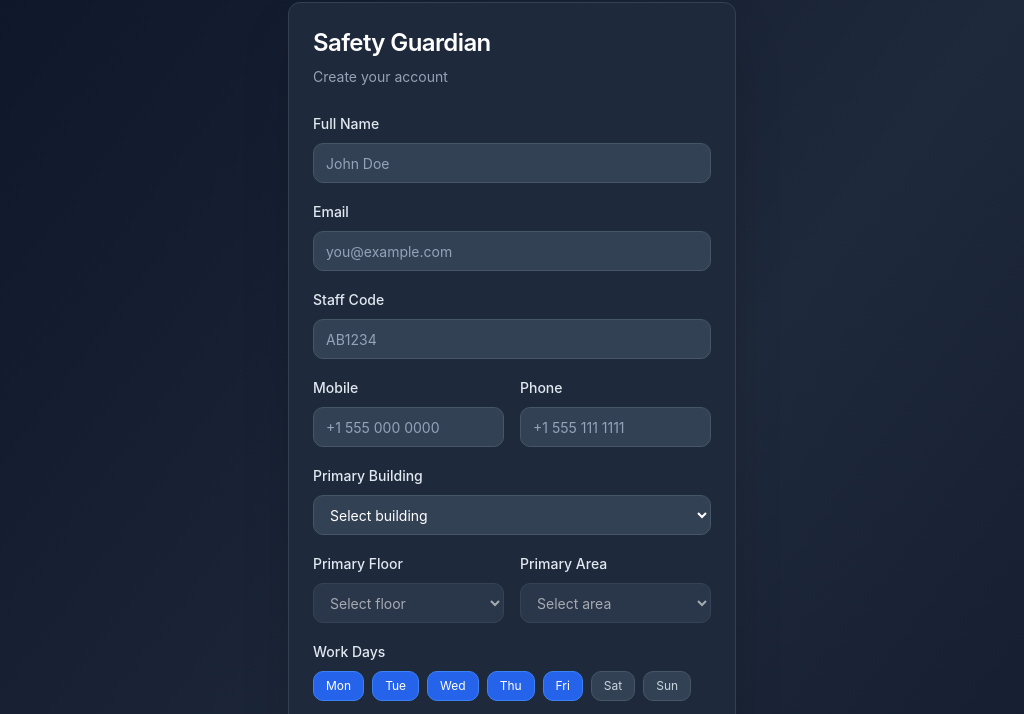
Auth page UI negative states › renders register error from auth service
Type "Safety User" into the field labelled "Full Name".
click(512, 163); type("Safety User")  # box [313,143,711,183]
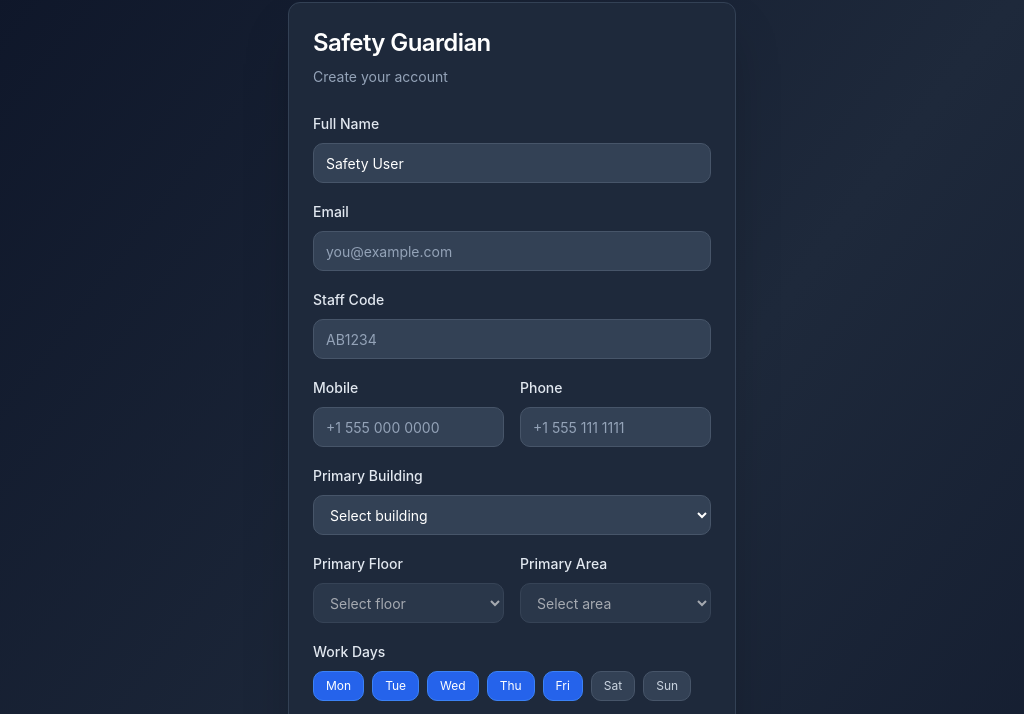
Type "admin@safeguard.local" into the field labelled "Email".
click(512, 251); type("admin@safeguard.local")  # box [313,231,711,271]
(page scrolled)
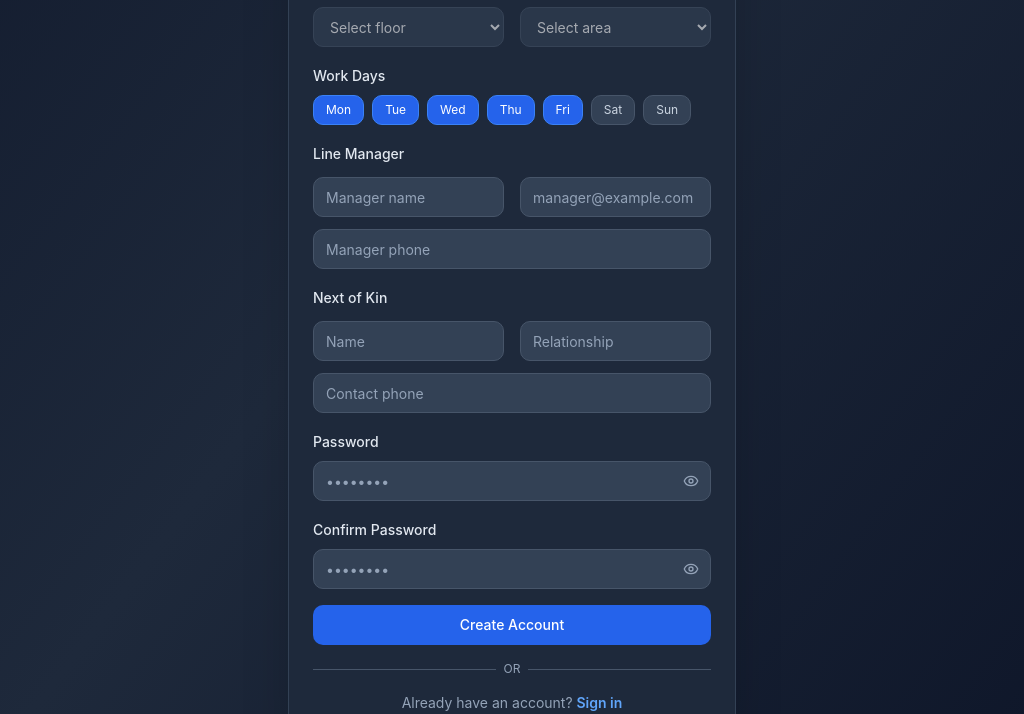
Type "Valid123" into the password field labelled "Password".
click(512, 481); type("Valid123")  # box [313,461,711,501]
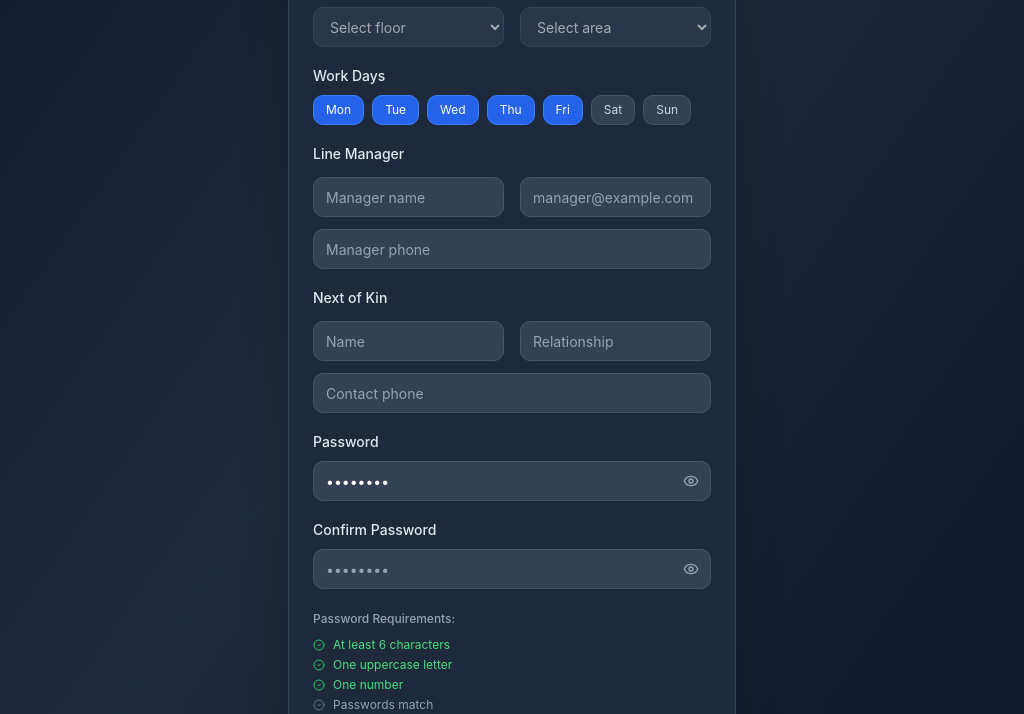
Type "Valid123" into the password field labelled "Confirm Password".
click(512, 569); type("Valid123")  # box [313,549,711,589]
(page scrolled)
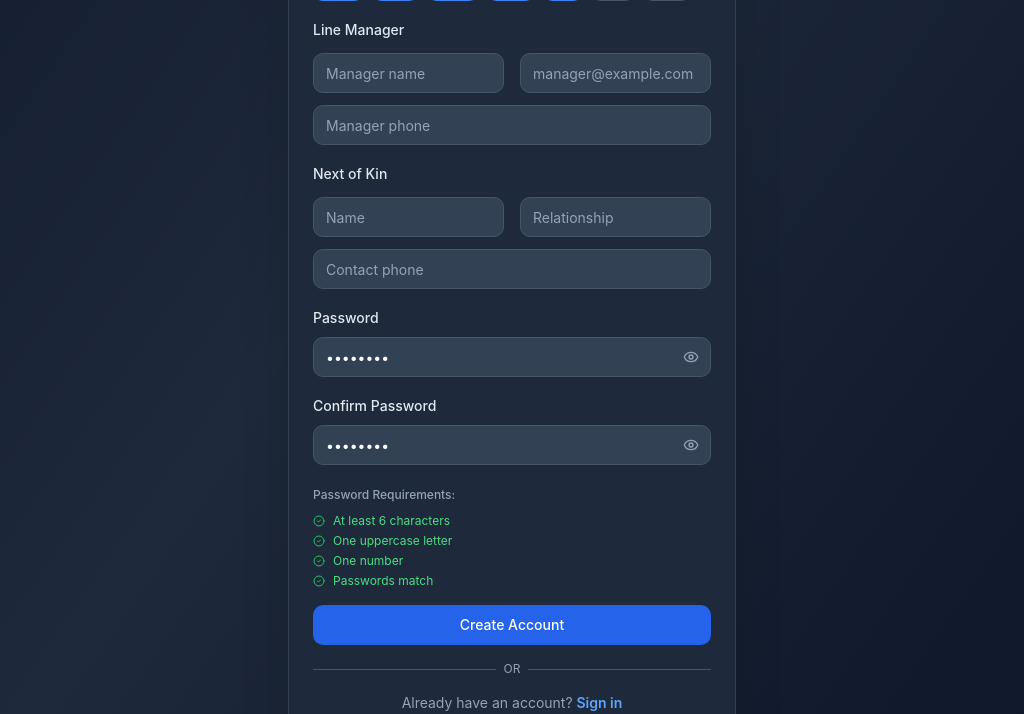
Click the button "Create Account".
click(512, 625)  # box [313,605,711,645]
(page scrolled)
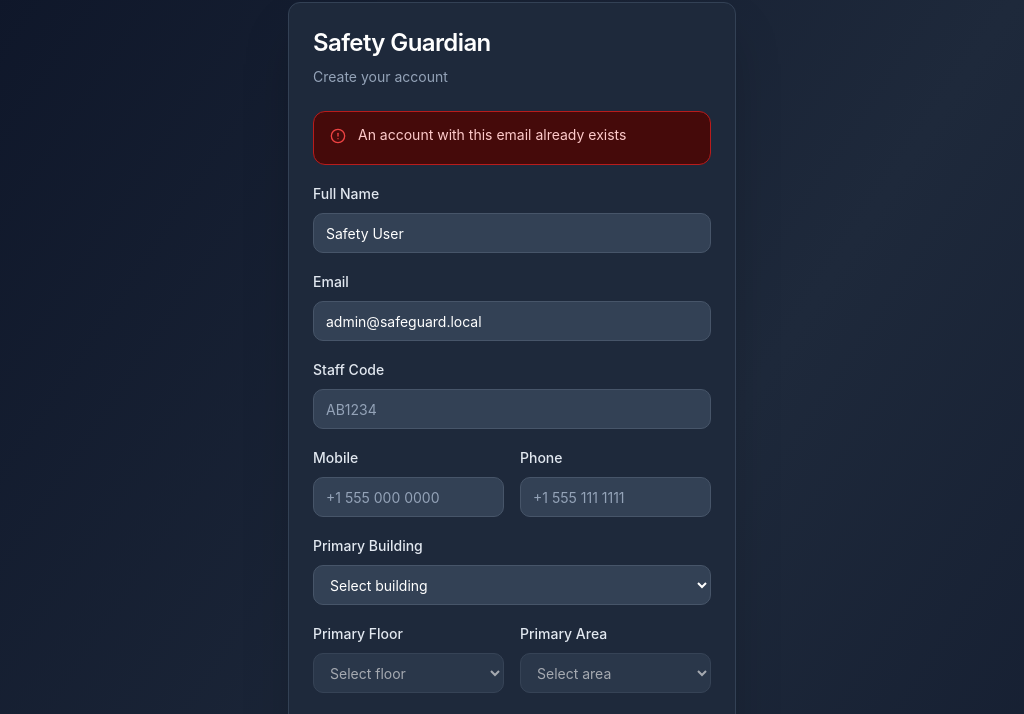
expect the text "An account with this email already exists" is shown: met, box [358,126,626,143]
